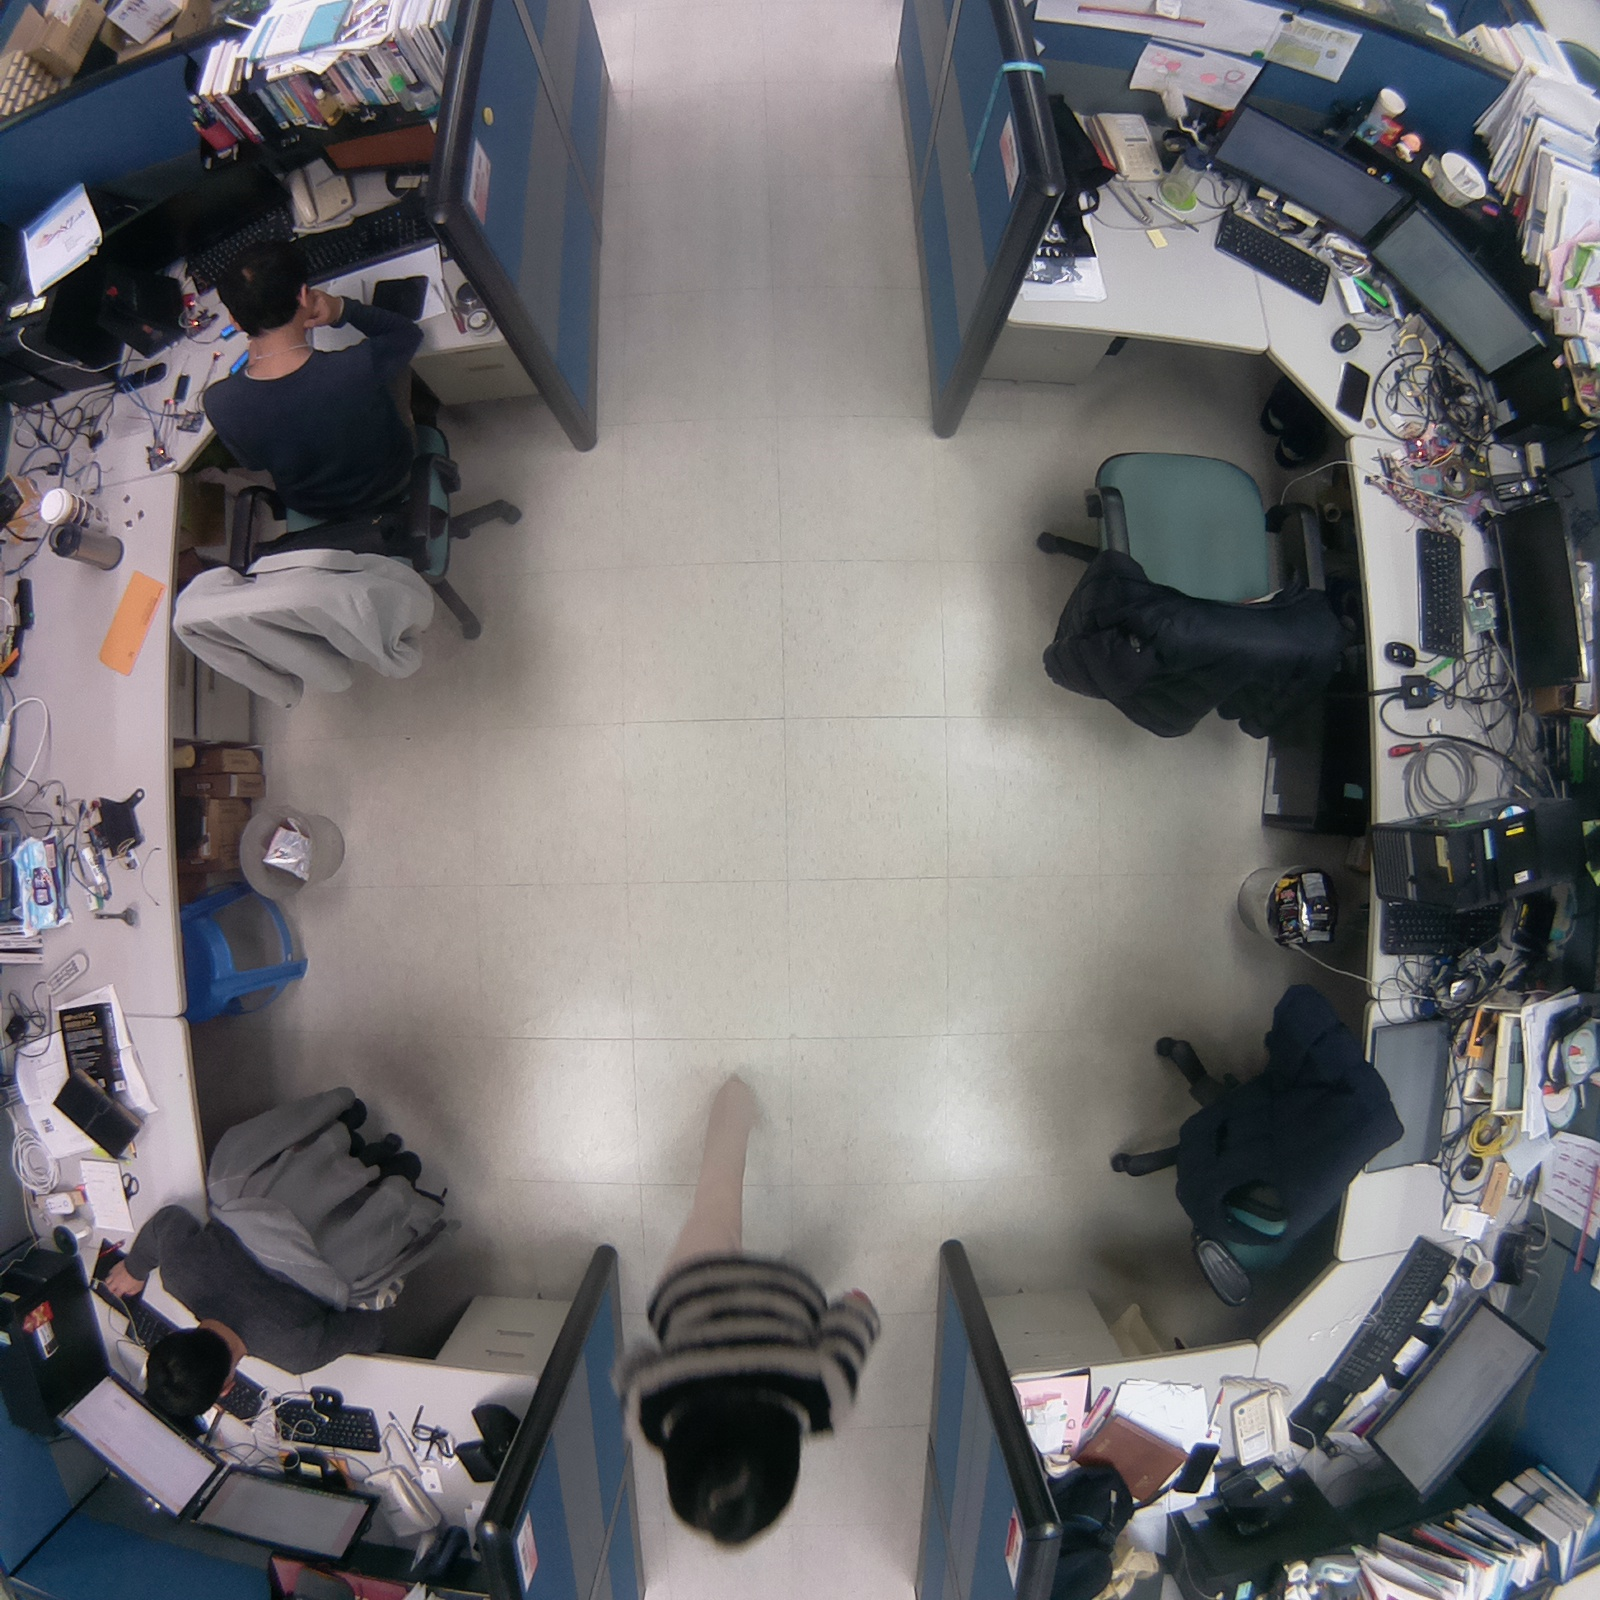chair: (991, 424, 1401, 791), (1104, 958, 1406, 1347)
head: (646, 1382, 806, 1553), (206, 229, 325, 334), (136, 1312, 242, 1429)
sitting: (160, 235, 537, 722), (93, 1052, 476, 1427)
walking: (625, 1051, 882, 1551)
